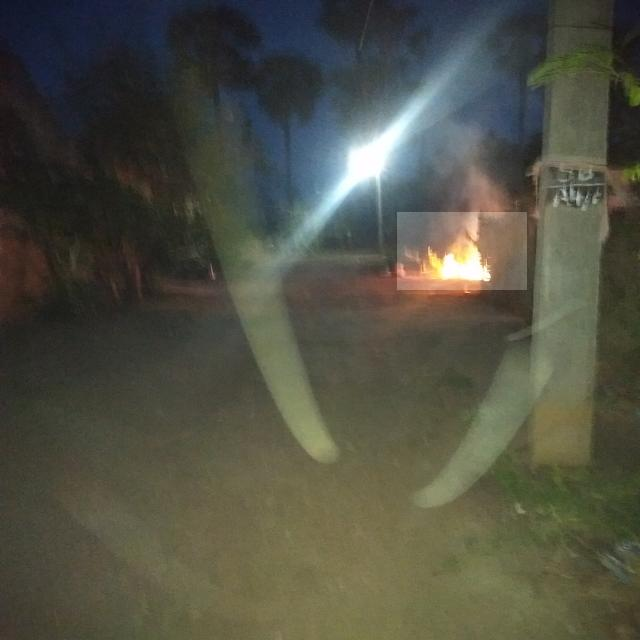Fire: (397, 212, 527, 290)
